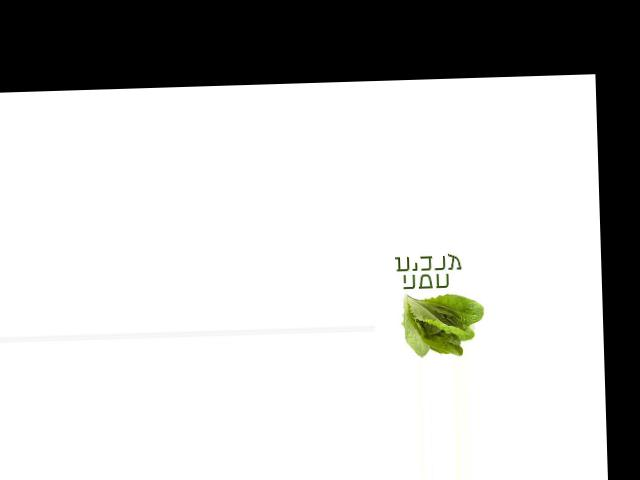lettuce: (395, 285, 485, 357)
